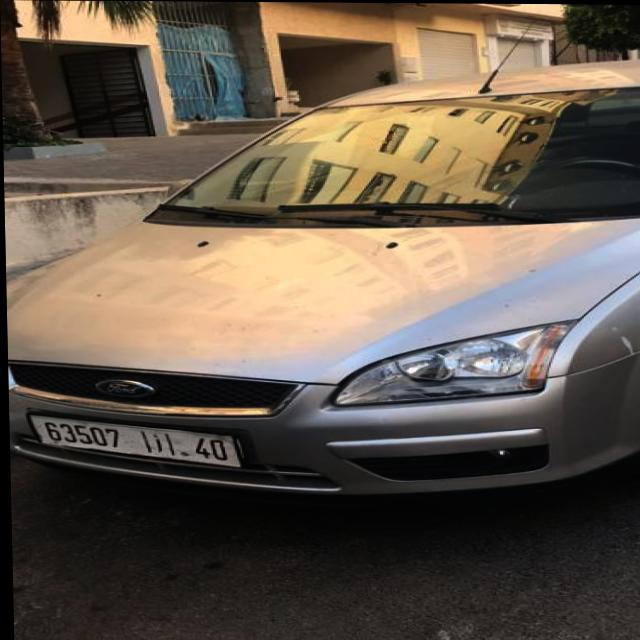License-Plate: (27, 415, 237, 467)
